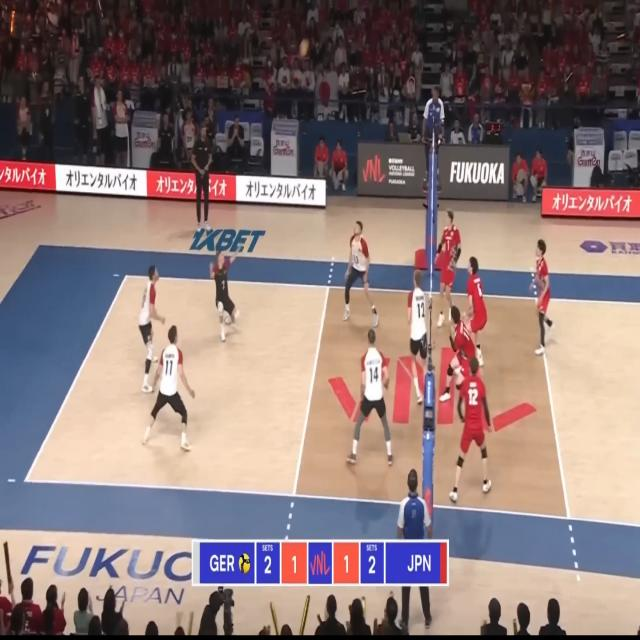ball: (301, 40, 308, 54)
